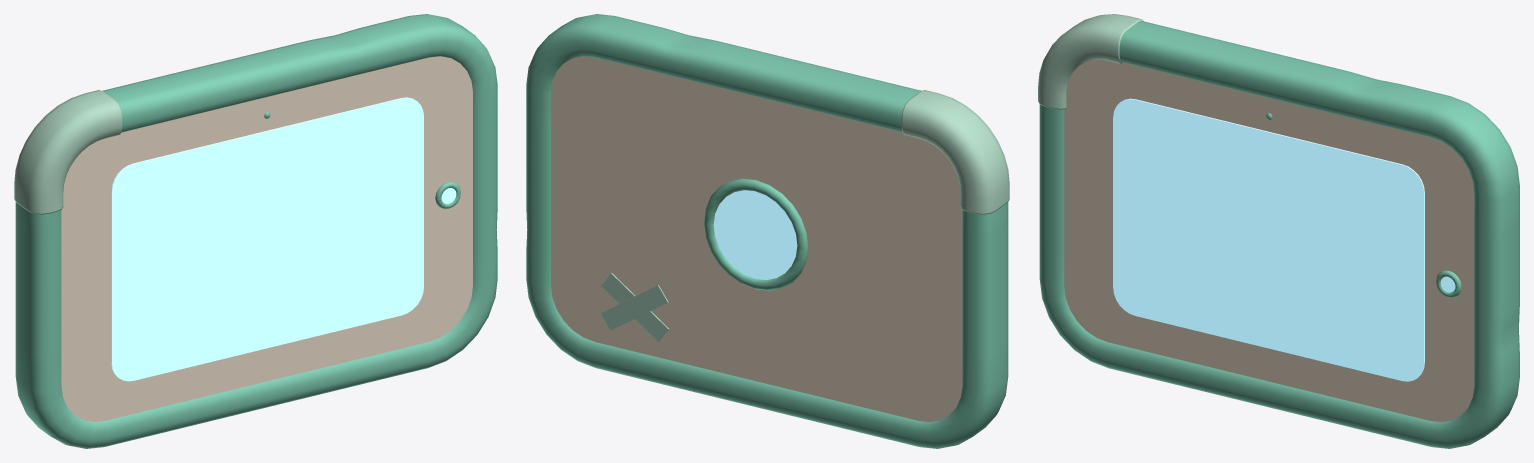
Rendered from tablet_before.fbx.
3 views of the same model, side by side, from view 1: azimuth 30°, elevation 25°; view 2: azimuth 150°, elevation 25°; view 3: azimuth 330°, elevation 25° (orthographic).
Parts seen in each view (by area): view 1: Screen, Body, Bumper, RepairTape; view 2: Body, Bumper, RepairTape, BackBadgeGlass, BackBadgeRing, BackTape; view 3: Screen, Body, Bumper, RepairTape.
Part boxes in pixels (x1,y1,x2,y2): Screen: (111, 97, 423, 381); Body: (61, 56, 472, 421); Bumper: (15, 14, 497, 448); RepairTape: (14, 90, 122, 214); Body: (551, 56, 962, 421); Bumper: (526, 14, 1008, 448); RepairTape: (901, 90, 1009, 214); BackBadgeGlass: (713, 190, 797, 279); BackBadgeRing: (704, 178, 808, 290); BackTape: (601, 273, 668, 341); Screen: (1113, 98, 1424, 381); Body: (1064, 59, 1474, 422); Bumper: (1039, 21, 1519, 448); RepairTape: (1038, 14, 1143, 109).
Bounding box in the file's own units: 0.4012 × 0.2812 × 0.0404.
